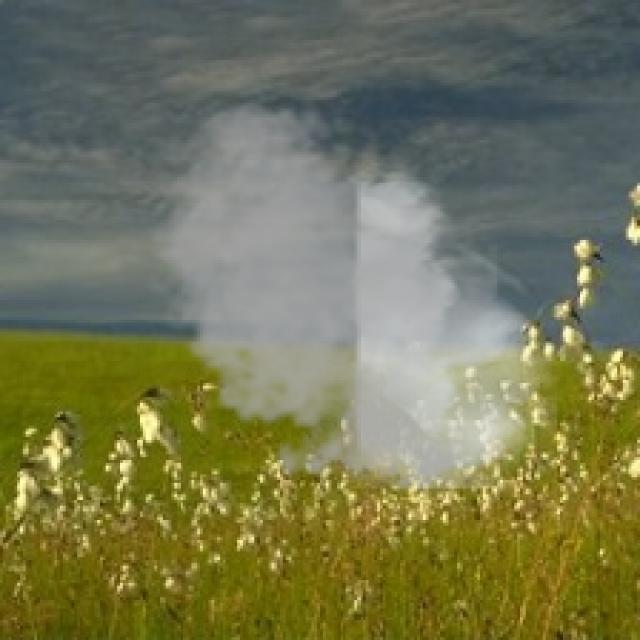Smoke: (134, 94, 557, 506)
